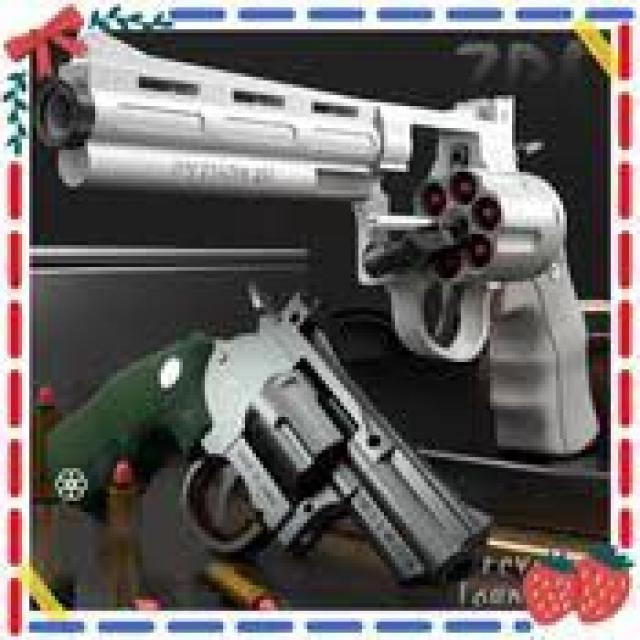semi automatic: (34, 11, 610, 465)
